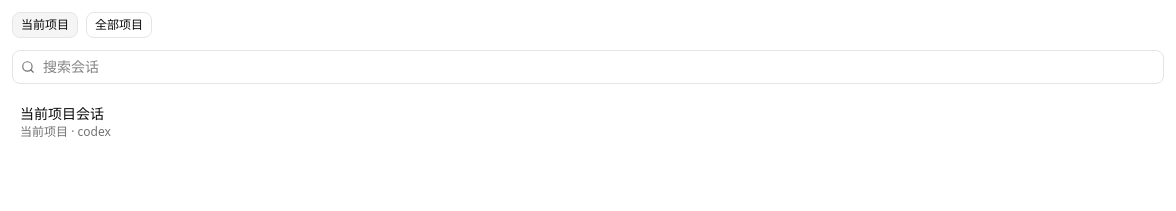
it: RelayConversationPicker › 按项目名称搜索
Step 1. Click the button "全部项目" → (119, 25), box [86, 12, 152, 38]
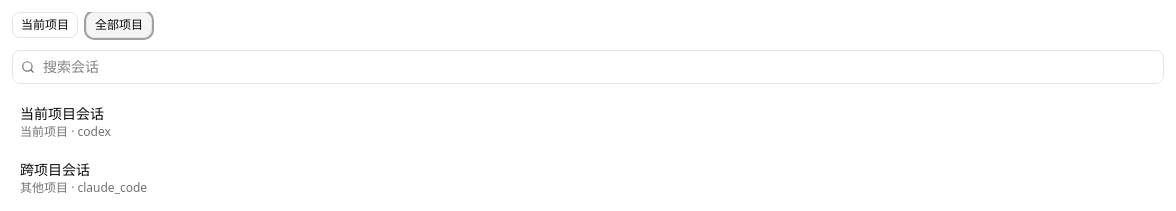
Step 2. Type "其他项目" into the search field → (599, 67), box [43, 57, 1155, 77]
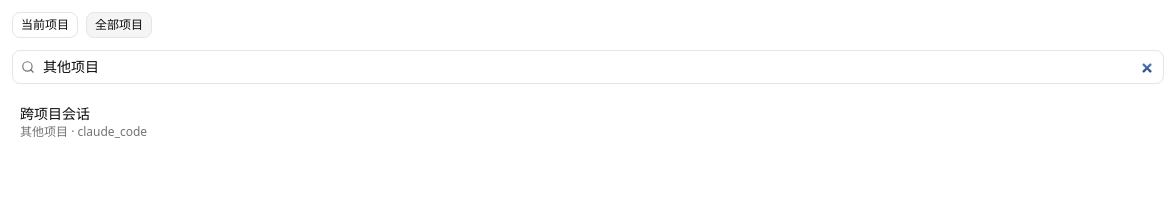
Now the text "跨项目会话" is shown, box [20, 104, 90, 123]
Now the radio button "当前项目会话" is gone
